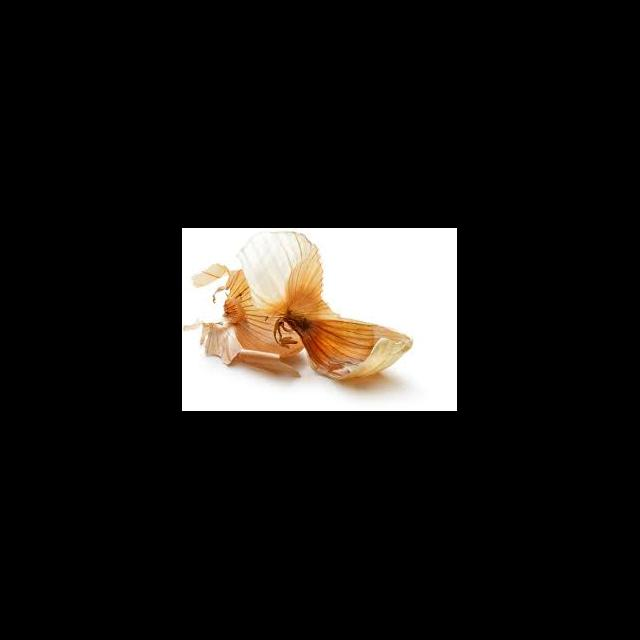food_waste: (210, 253, 419, 390)
